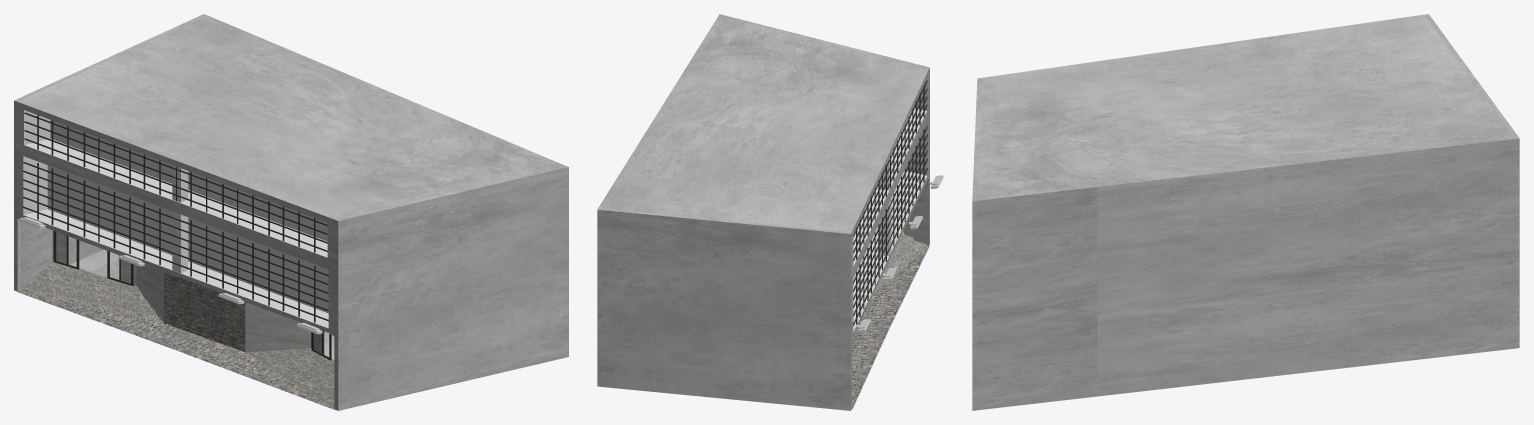
Rendered from Disco 6.fbx.
3 views of the same model, side by side, from view 1: azimuth 30°, elevation 25°; view 2: azimuth 150°, elevation 25°; view 3: azimuth 270°, elevation 25° (orthographic). The views are drawn at different scales.
Parts seen in each view (by area): view 1: Estructura, Glass, Negro, Estructura.002, Estructura.001, Escaleras, Escaleras.001, Columna, Cube.001, Cube.010, Cube.002, Cube.003 (+6 smaller); view 2: Estructura, Negro, Estructura.002, Escaleras.001, Columna, Cube.009, Cube.001, Cube.003, Cube.002, Cube.010; view 3: Estructura.
Boxes of the visible parts, x1,y1,x2,y2 form: Estructura: [14, 14, 568, 410]; Glass: [47, 120, 328, 313]; Negro: [23, 110, 328, 328]; Estructura.002: [17, 292, 333, 409]; Estructura.001: [164, 272, 245, 352]; Escaleras: [18, 260, 163, 323]; Escaleras.001: [245, 348, 334, 408]; Columna: [172, 211, 188, 273]; Cube.001: [23, 187, 328, 302]; Cube.010: [23, 206, 328, 321]; Cube.002: [23, 179, 328, 293]; Cube.003: [23, 170, 328, 285]; Estructura: [597, 14, 929, 410]; Negro: [853, 78, 927, 331]; Estructura.002: [852, 246, 929, 409]; Escaleras.001: [874, 232, 928, 291]; Columna: [879, 198, 891, 256]; Cube.009: [853, 158, 927, 316]; Cube.001: [853, 150, 927, 307]; Cube.003: [853, 134, 927, 291]; Cube.002: [853, 142, 927, 300]; Cube.010: [853, 168, 927, 325]; Estructura: [972, 14, 1519, 410].
Size of the model in its own units: 3141 by 1614 by 3822.
